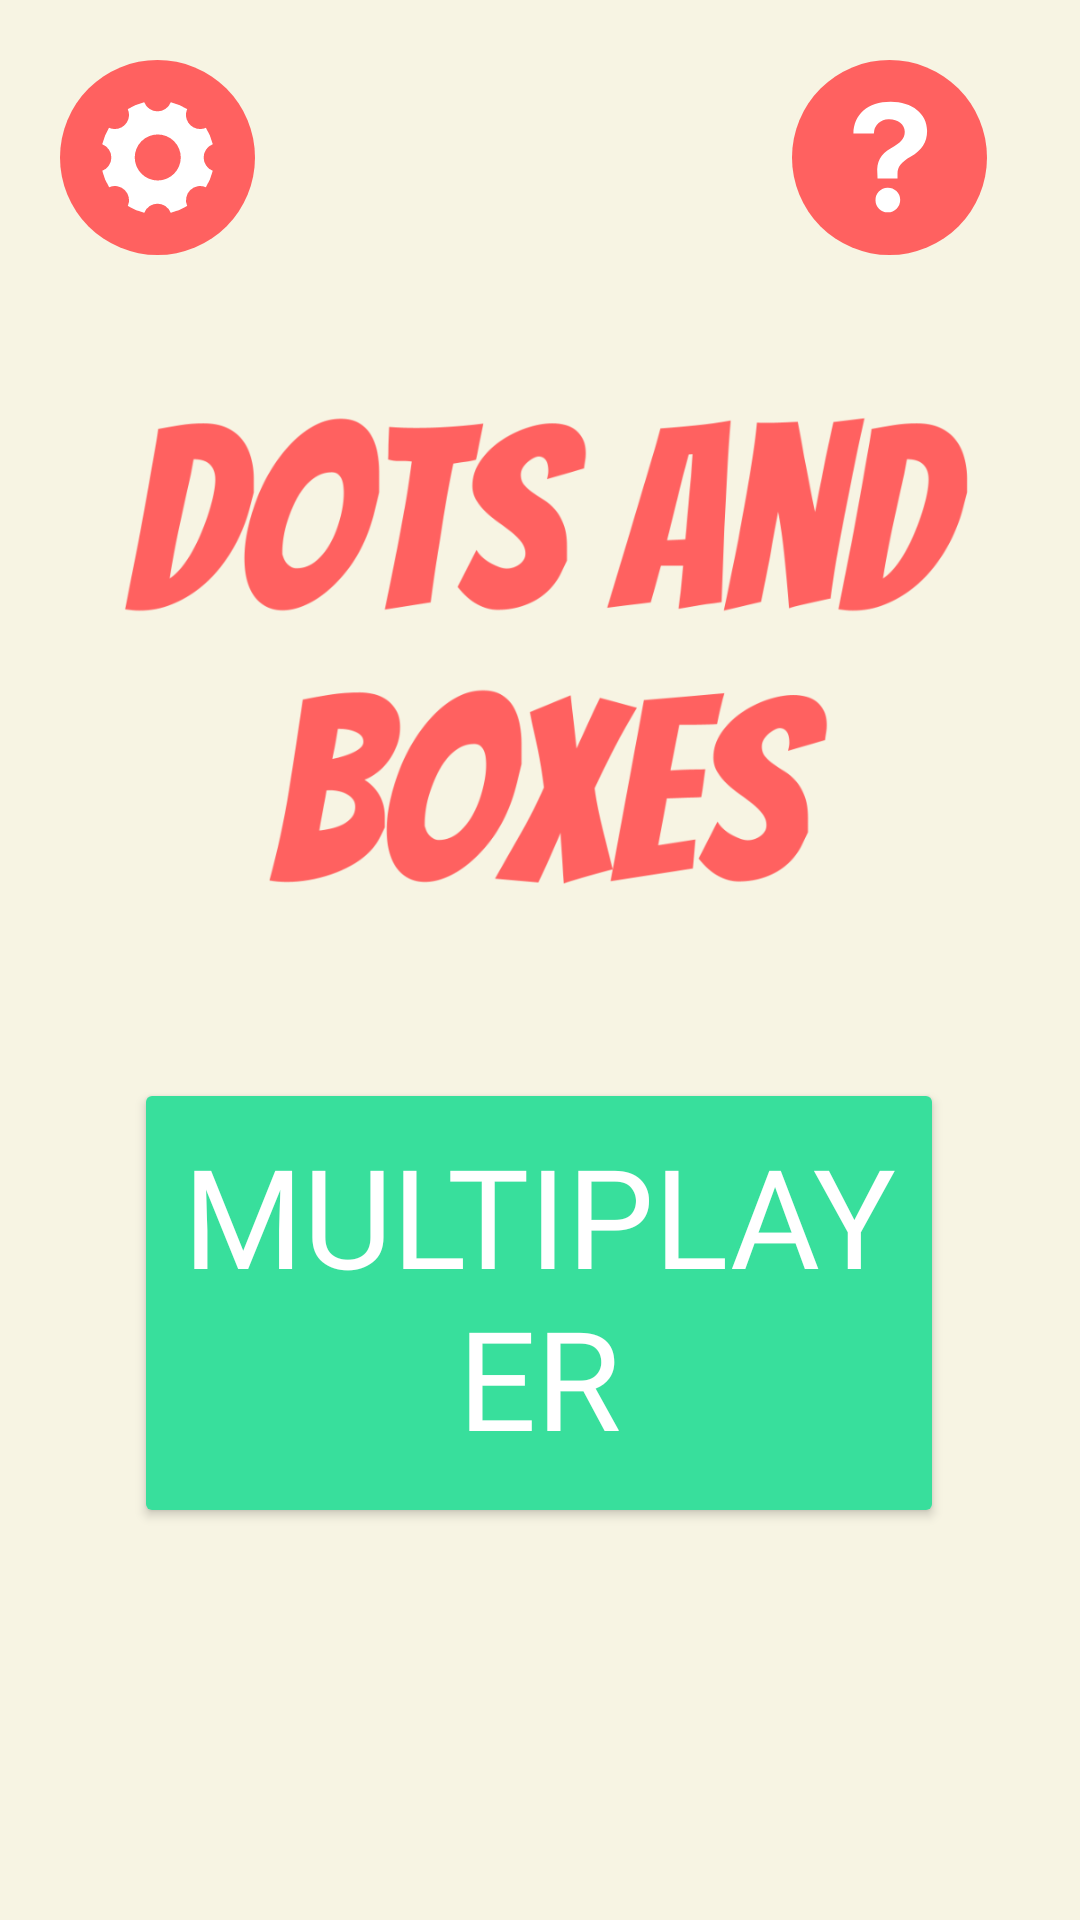

Point at icon controls on the screen. Image size 1080w x 1920h, points as [x,y].
help: [889,157]
settings: [157,157]
